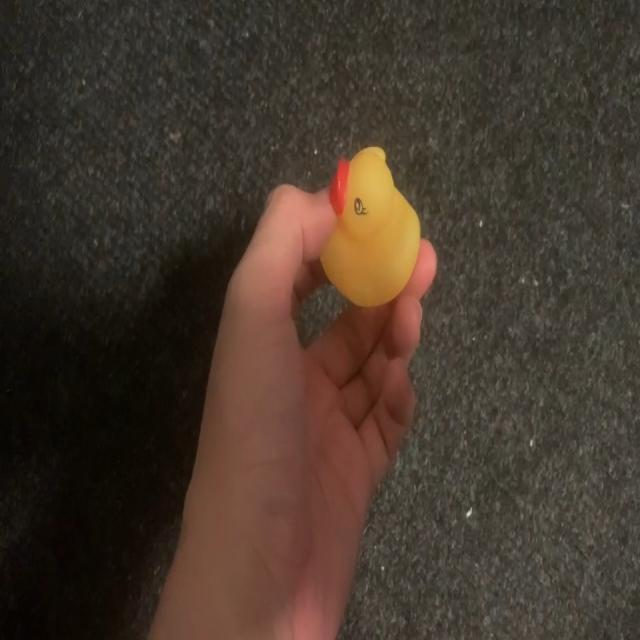rubber-duck: (320, 146, 418, 305)
